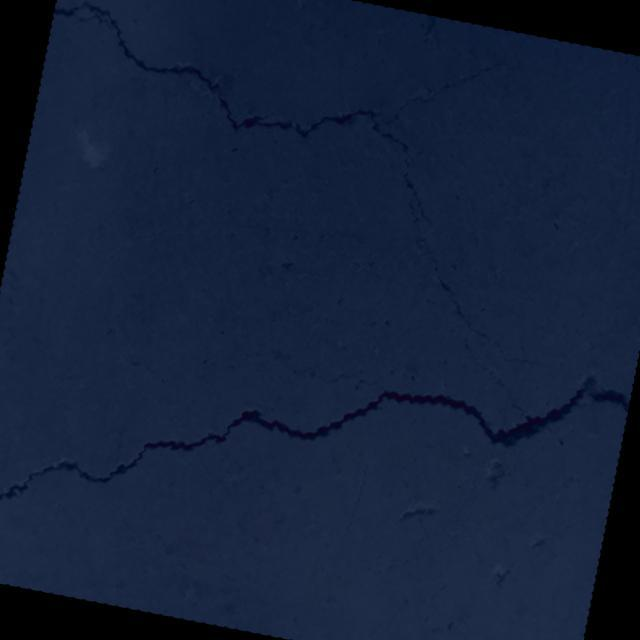crack: (0, 251, 636, 622), (258, 26, 580, 367), (38, 0, 308, 144)
